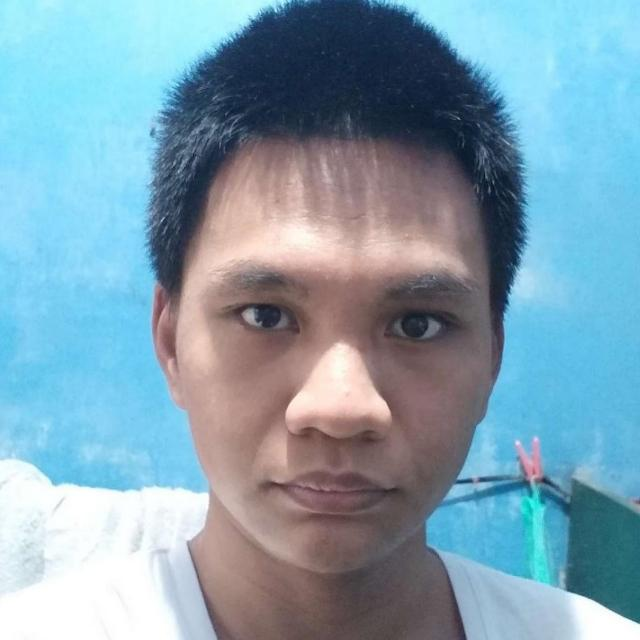Natural: (108, 142, 518, 602)
